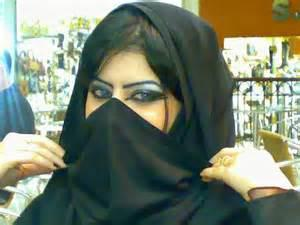OK: (87, 72, 174, 159)
